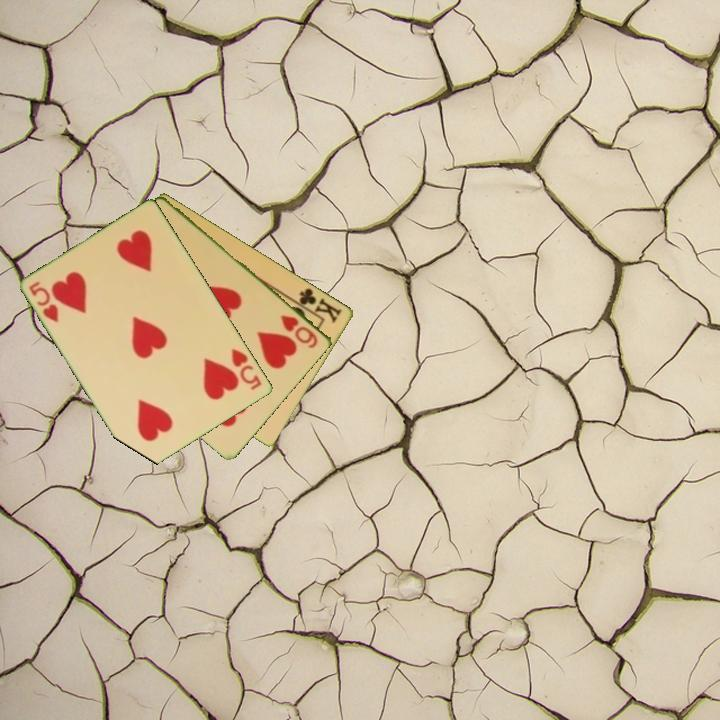5h: (228, 345, 265, 393), (26, 278, 62, 325)
6h: (277, 311, 321, 351)
Kc: (290, 284, 345, 326)
